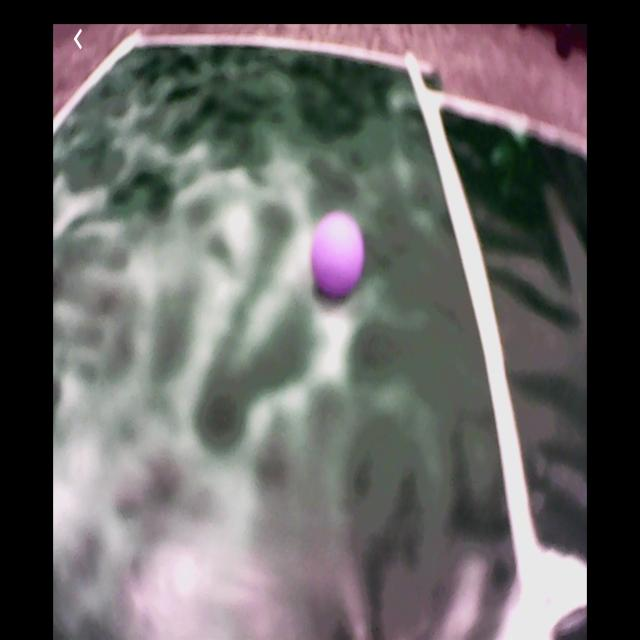ball: (311, 213, 366, 296)
